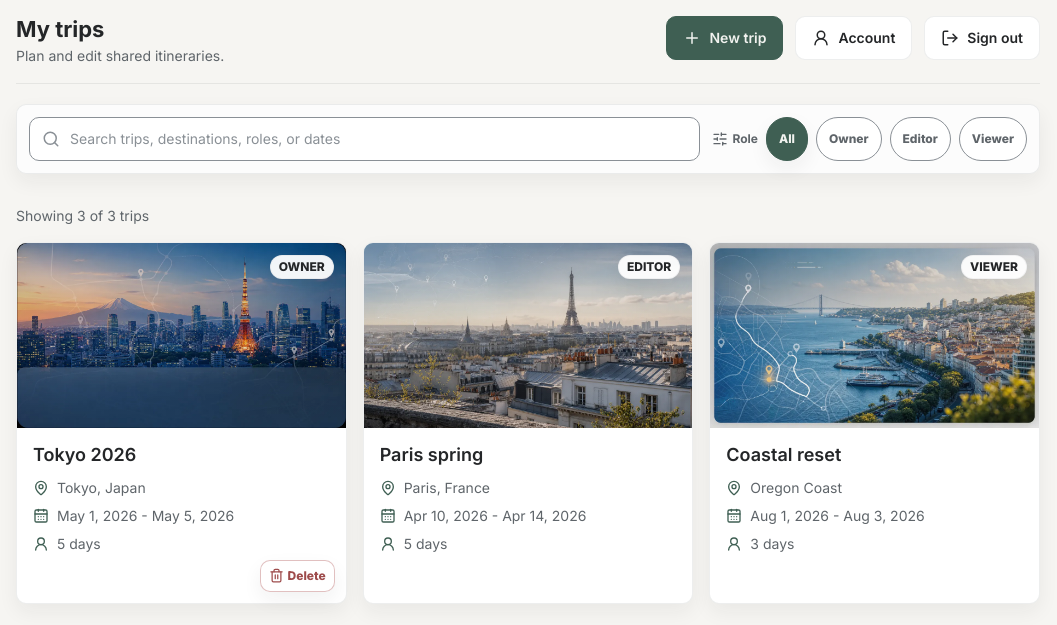
<TripsPage> › filters trips by search text and role
Expected: the link with aria-label "open tokyo 2026" is shown, [16,242,347,604]
Type "paris" into the search field labelled "Search trips, destinations, roles, or dates" at (378,139), box [68,128,688,150]
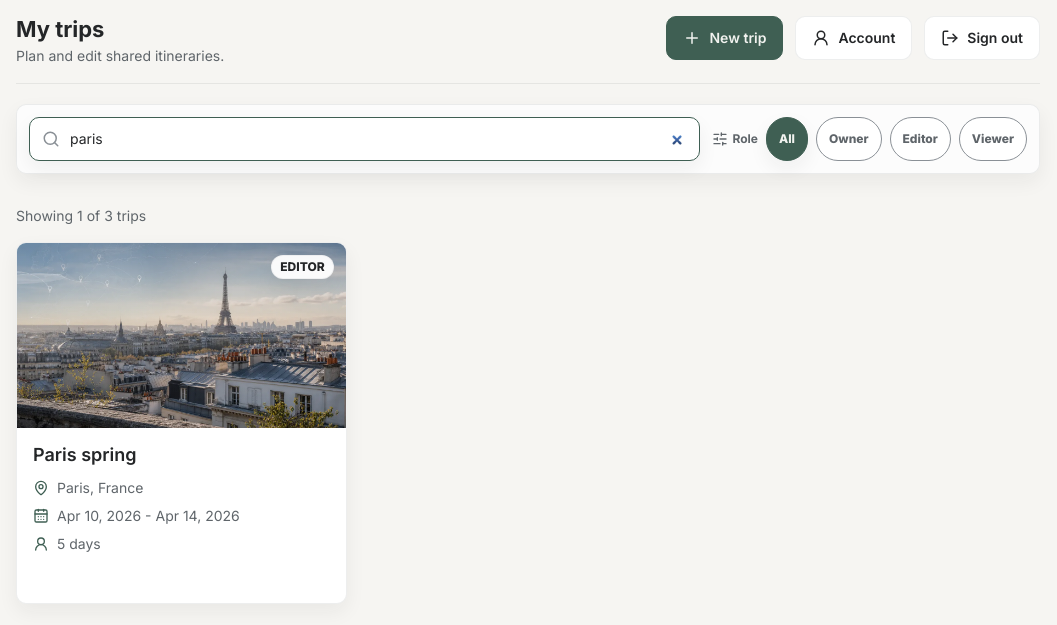
Expected: the link with aria-label "open paris spring" is shown, [16,242,347,604]
Click the button "Viewer" at (993,139), box [959,117,1027,161]
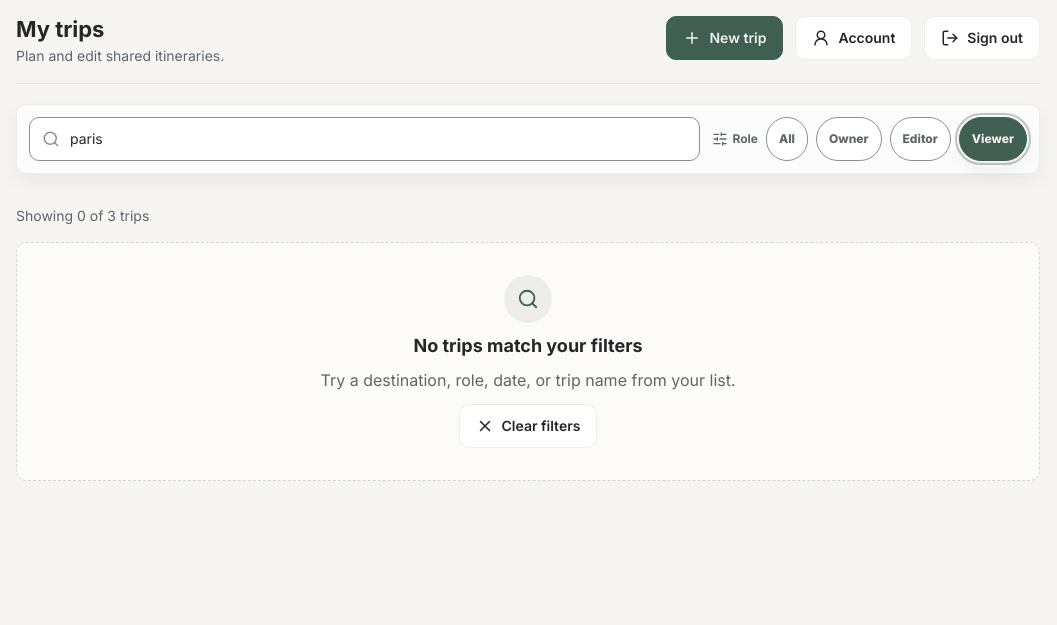
Expected: the heading "No trips match your filters" is shown, [413,335,643,357]
Click the button "Clear filters" at (528,426), box [458,404,597,448]
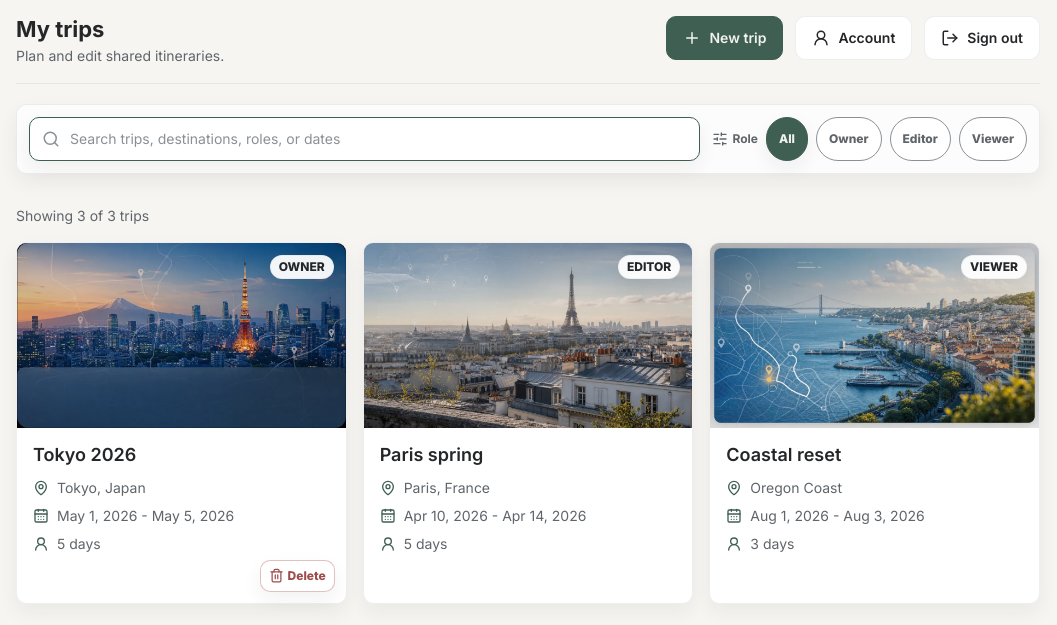
Expected: the link with aria-label "open coastal reset" is shown, [709,242,1040,604]
Expected: the text "Showing 3 of 3 trips" is shown, [16,207,149,224]
